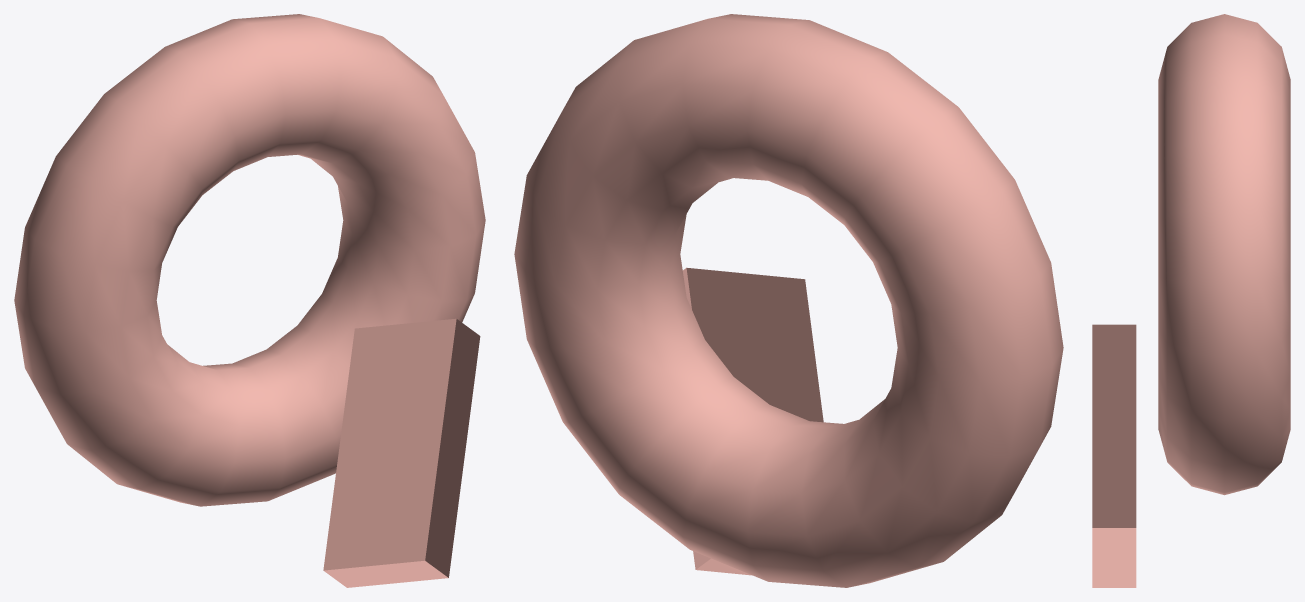
The model's file is chunky_scarf.glb.
3 renders of one model, left to right at view 1: azimuth 30°, elevation 25°; view 2: azimuth 150°, elevation 25°; view 3: azimuth 270°, elevation 25°, orthographic. The views are drawn at different scales.
Parts seen in each view (by area): view 1: Chunky Scarf; view 2: Chunky Scarf; view 3: Chunky Scarf.
Part boxes in pixels (x1=…): Chunky Scarf: x1=14, y1=14, x2=485, y2=587; Chunky Scarf: x1=514, y1=14, x2=1063, y2=587; Chunky Scarf: x1=1092, y1=14, x2=1290, y2=587.
Bounding box in the file's own units: 0.44 × 0.4959 × 0.18.
